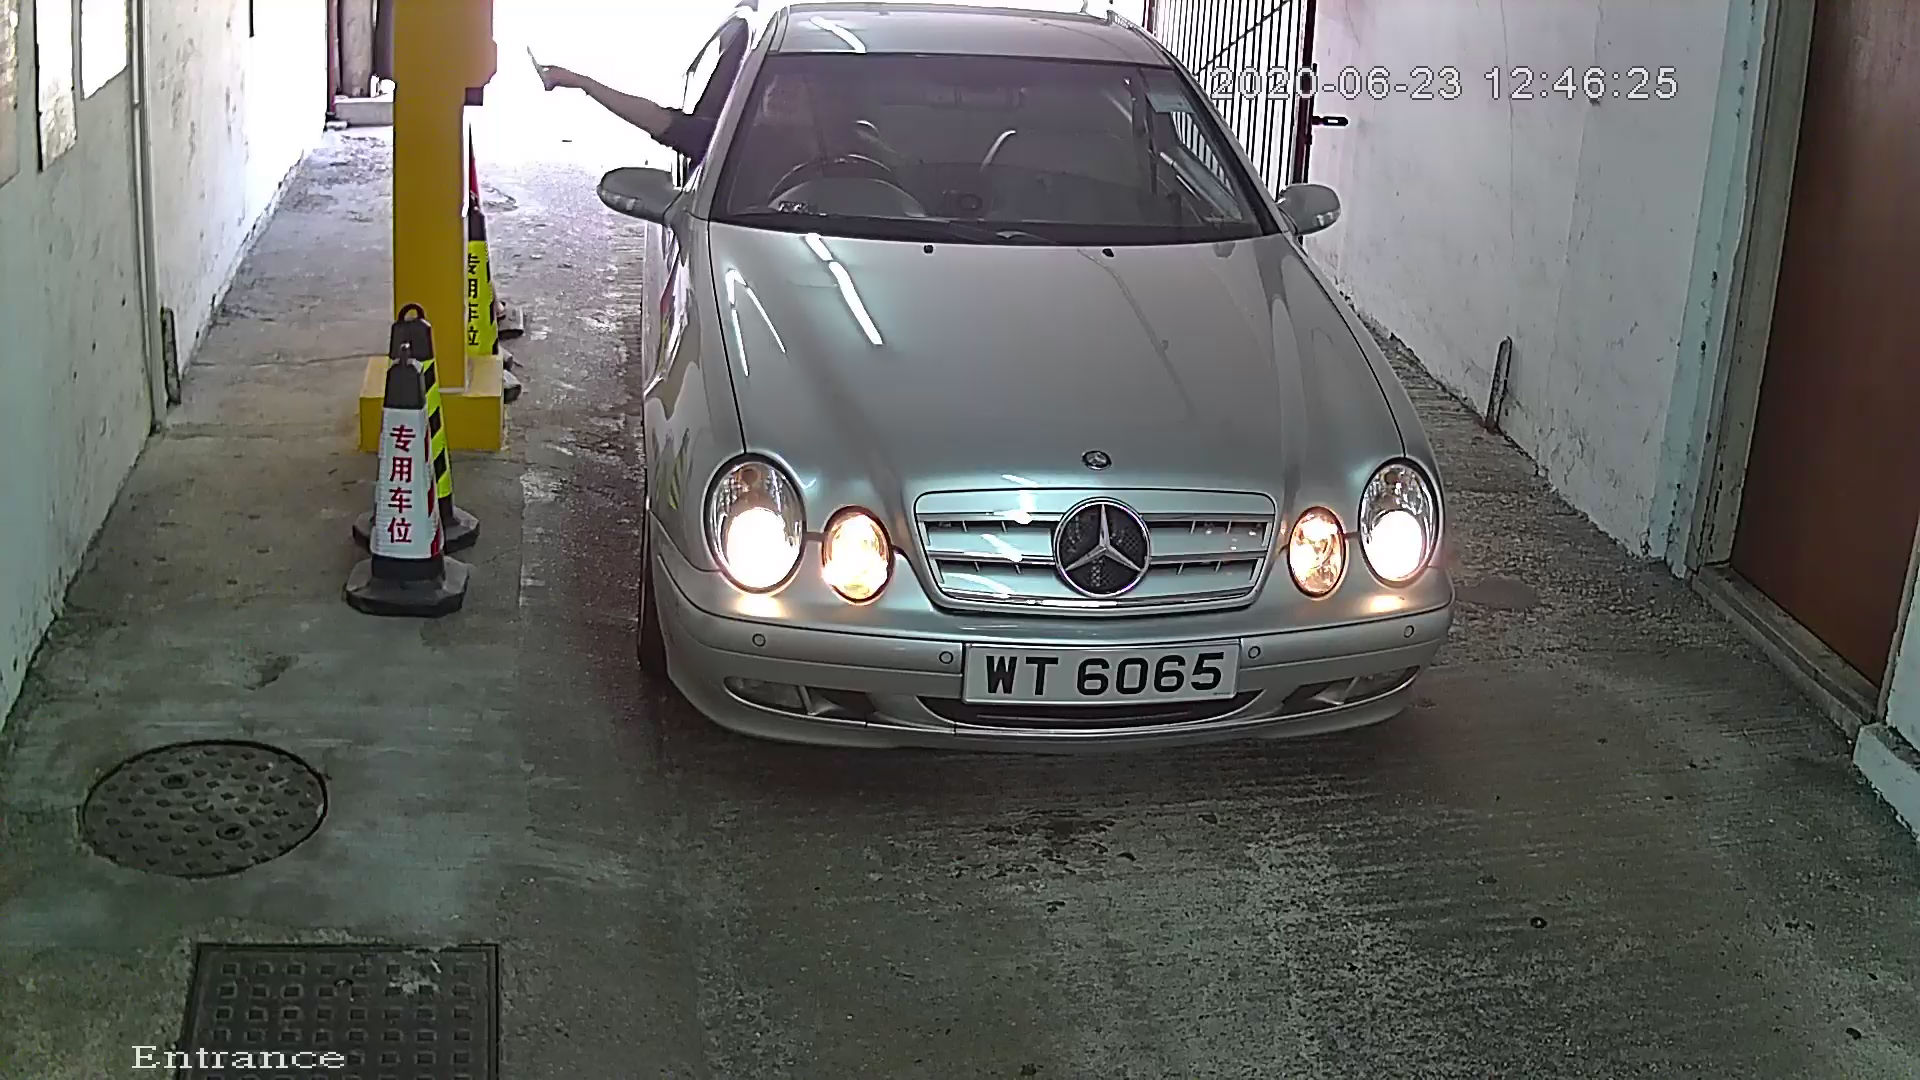privatecar: (582, 1, 1491, 804)
